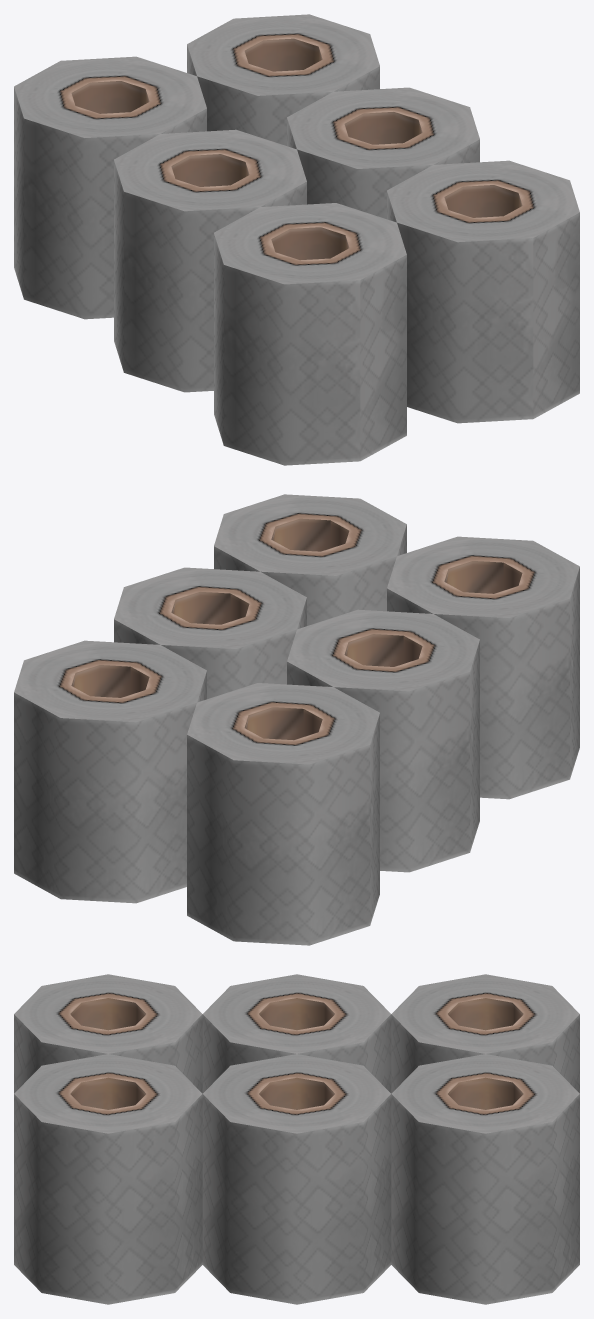
The model's file is ITEM_toiletPaper_E.fbx.
3 renders of one model, top to bottom at view 1: azimuth 30°, elevation 25°; view 2: azimuth 150°, elevation 25°; view 3: azimuth 270°, elevation 25°, orthographic. The views are drawn at different scales.
Parts seen in each view (by area): view 1: ITEM_toiletPaper_E; view 2: ITEM_toiletPaper_E; view 3: ITEM_toiletPaper_E.
Part boxes in pixels (x1,y1,x2,y2): ITEM_toiletPaper_E: (14, 14, 579, 465); ITEM_toiletPaper_E: (14, 494, 579, 945); ITEM_toiletPaper_E: (14, 974, 579, 1304).
Bounding box in the file's own units: 24 × 12 × 36.
